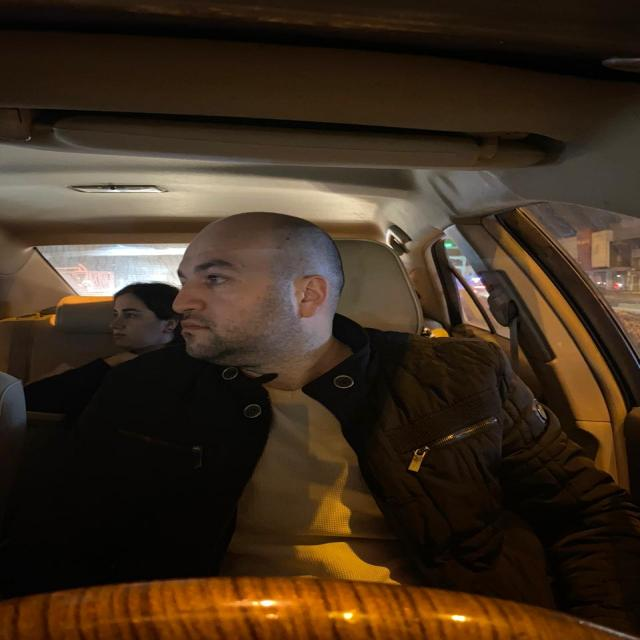LeftRight: (168, 205, 350, 364)
person: (105, 283, 177, 350)
